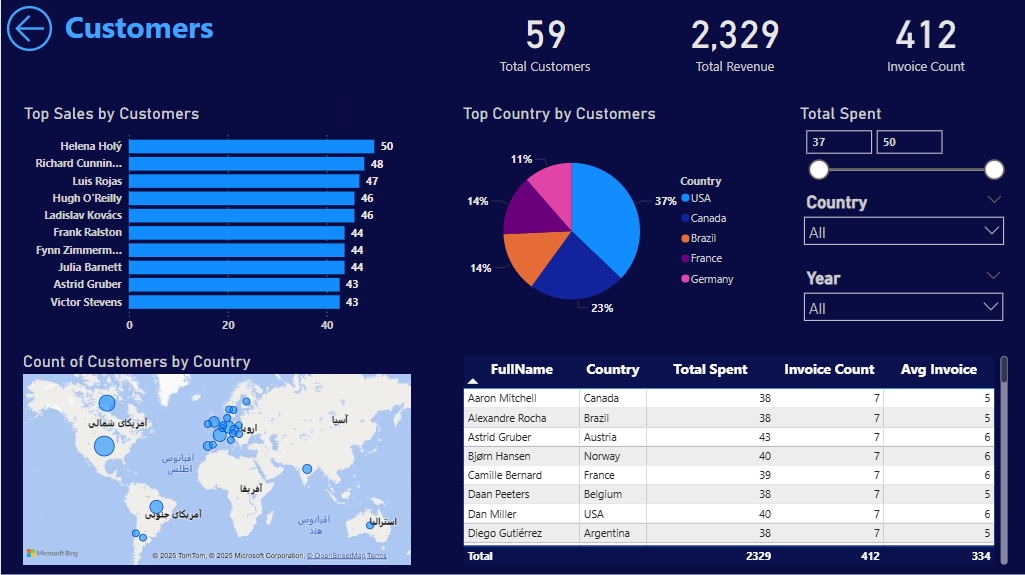

The page's visual inventory and layout, read from the dashboard file:
{"tool":"powerbi","page":{"name":"Customers","canvas":[1280,720],"ordinal":3},"visuals":[{"type":"barChart","title":"Top Sales by Customers","fields":{"Category":["Customer.FullName"],"Y":["Measures (3).SumTotal"]},"box":[23.8,130,493.8,295],"z":0},{"type":"slicer","fields":{"Values":["Customer.Country"]},"box":[993.8,235,270,95],"z":1000},{"type":"map","title":"Count of Customers by Country","fields":{"Category":["Customer.Country","Customer.State","Customer.City"],"Size":["Customer.CustomerId"]},"box":[22.9,440,494.9,270.9],"z":2000},{"type":"slicer","fields":{"Values":["Invoice.Date.Variation.Date Hierarchy.Year"]},"box":[993.8,330,268.8,95],"z":3000},{"type":"slicer","title":"Total Spent","fields":{"Values":["Customer.TotalSpent"]},"box":[993.8,130,268.8,105],"z":4000},{"type":"card","fields":{"Values":["Customer.CustomerId"]},"box":[572.5,0,215,95],"z":5000},{"type":"card","fields":{"Values":["Invoice.Total"]},"box":[810,0,215,95],"z":6000},{"type":"tableEx","fields":{"Values":["Customer.FullName","Customer.Country","Customer.TotalSpent","Measures (3).InvoiceCount","Customer.AvgInvoiceValue"]},"box":[572.1,439.8,691.5,271.1],"z":7000},{"type":"pieChart","title":"Top Country by Customers","fields":{"Category":["Customer.Country"],"Y":["Customer.CustomerId"]},"box":[572.6,130.3,357.7,294.9],"z":8000},{"type":"card","fields":{"Values":["Customer.InvoiceCount"]},"box":[1048.8,0,215,95],"z":9000},{"type":"actionButton","box":[0,0,71.2,71.2],"z":10000},{"type":"textbox","box":[75,2.5,197.5,68.8],"z":11000}]}

Visuals, with their boxes in screenshot pixels (x1, y1, x2, y2), scaled from the page's 1280x720 canvas onto the 1025x575 screenshot:
"Top Sales by Customers" barChart: <bbox>19, 104, 414, 339</bbox>
slicer - Customer.Country: <bbox>796, 188, 1012, 264</bbox>
"Count of Customers by Country" map: <bbox>18, 351, 415, 568</bbox>
slicer - Invoice.Date.Variation.Date Hierarchy.Year: <bbox>796, 264, 1011, 339</bbox>
"Total Spent" slicer: <bbox>796, 104, 1011, 188</bbox>
card - Customer.CustomerId: <bbox>458, 0, 631, 76</bbox>
card - Invoice.Total: <bbox>649, 0, 821, 76</bbox>
tableEx - Customer.FullName x Customer.Country: <bbox>458, 351, 1012, 568</bbox>
"Top Country by Customers" pieChart: <bbox>459, 104, 745, 340</bbox>
card - Customer.InvoiceCount: <bbox>840, 0, 1012, 76</bbox>
actionButton: <bbox>0, 0, 57, 57</bbox>
textbox: <bbox>60, 2, 218, 57</bbox>
